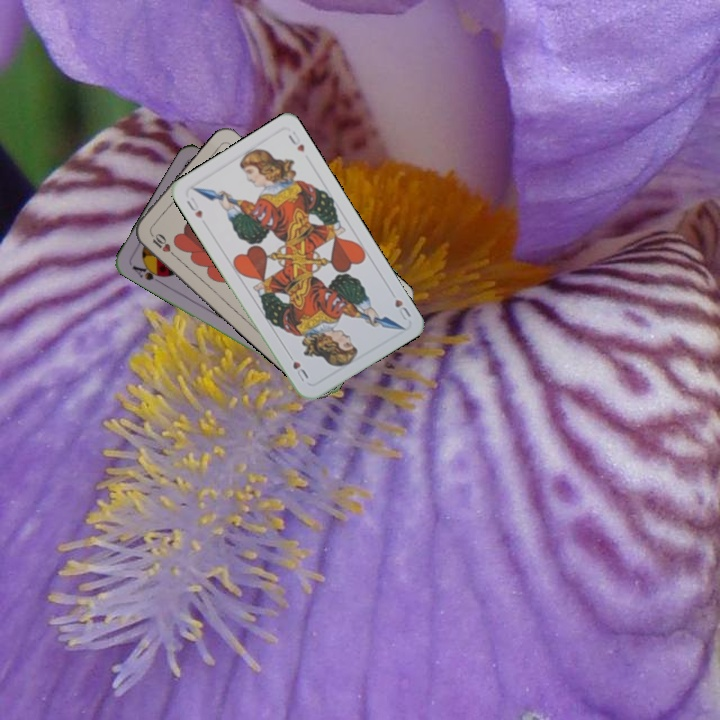H10: (146, 228, 179, 260)
HU: (182, 193, 205, 221), (391, 295, 413, 323)
SA: (128, 260, 167, 286)
